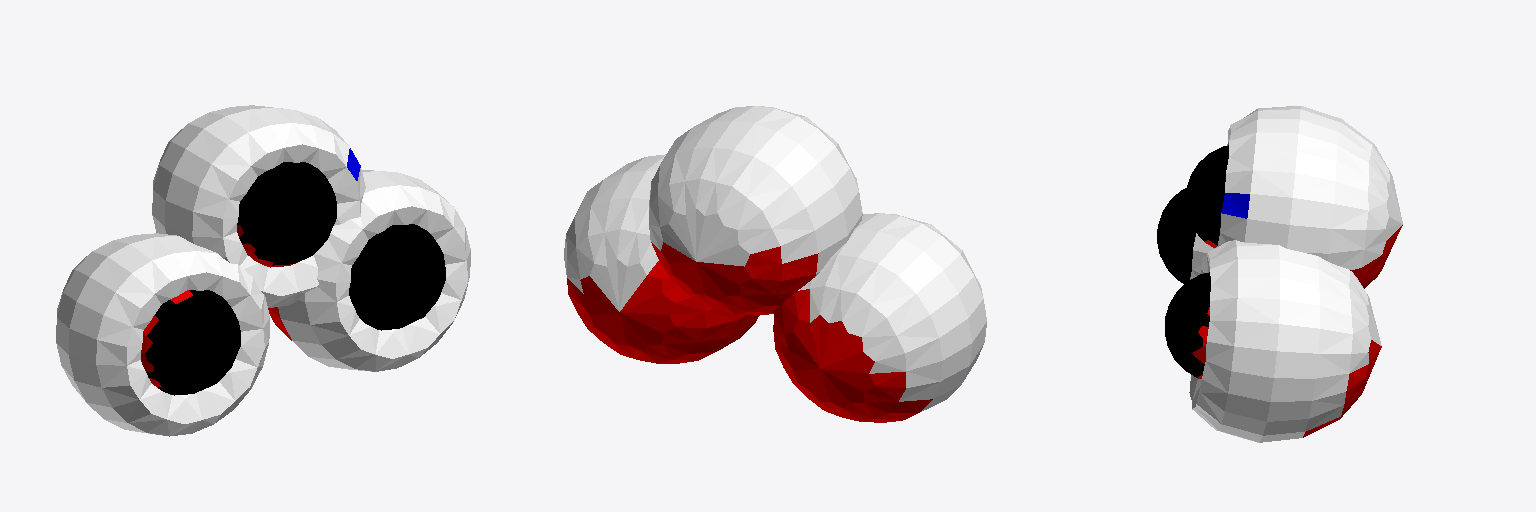
File: 3eyes.obj
The picture shows the model from 3 angles: view 1: azimuth 30°, elevation 25°; view 2: azimuth 150°, elevation 25°; view 3: azimuth 270°, elevation 25°; orthographic projection.
Visible parts, largest first — view 1: polySurface2 animal:Mesh polySurface16, polySurface10 polySurface2 animal:Mesh, polySurface2 animal:Mesh polySurface14, polySurface2 animal:Mesh polySurface15, polySurface2 animal:Mesh polySurface9, polySurface2 animal:Mesh polySurface13; view 2: polySurface10 polySurface2 animal:Mesh, polySurface2 animal:Mesh polySurface16, polySurface2 animal:Mesh polySurface14; view 3: polySurface2 animal:Mesh polySurface14, polySurface10 polySurface2 animal:Mesh, polySurface2 animal:Mesh polySurface13, polySurface2 animal:Mesh polySurface9, polySurface2 animal:Mesh polySurface15.
Part boxes in pixels (x1,y1,x2,y2): polySurface2 animal:Mesh polySurface16: (56, 233, 269, 436); polySurface10 polySurface2 animal:Mesh: (152, 105, 365, 307); polySurface2 animal:Mesh polySurface14: (268, 170, 470, 371); polySurface2 animal:Mesh polySurface15: (141, 290, 240, 395); polySurface2 animal:Mesh polySurface9: (237, 162, 336, 267); polySurface2 animal:Mesh polySurface13: (349, 224, 445, 330); polySurface10 polySurface2 animal:Mesh: (649, 106, 862, 315); polySurface2 animal:Mesh polySurface16: (773, 213, 986, 422); polySurface2 animal:Mesh polySurface14: (564, 154, 758, 363); polySurface2 animal:Mesh polySurface14: (1189, 240, 1381, 442); polySurface10 polySurface2 animal:Mesh: (1217, 106, 1402, 288); polySurface2 animal:Mesh polySurface13: (1165, 272, 1210, 378); polySurface2 animal:Mesh polySurface9: (1185, 145, 1228, 247); polySurface2 animal:Mesh polySurface15: (1157, 188, 1195, 283).
Size of the model in its own units: 3.89 by 2.62 by 2.12.